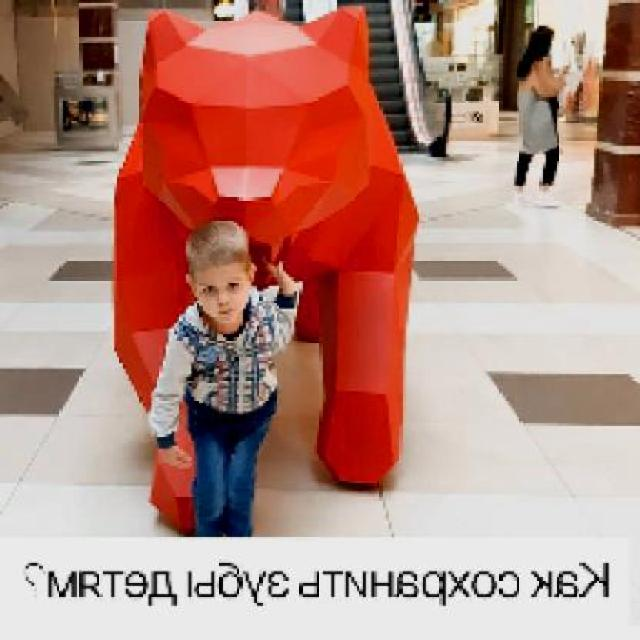child: (145, 218, 301, 536)
